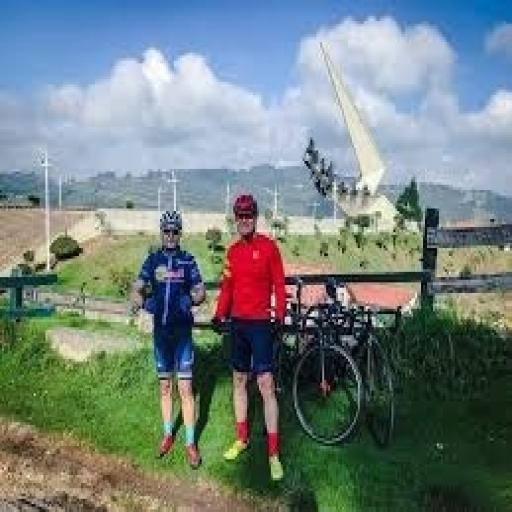cycling: (210, 190, 290, 486), (126, 206, 210, 472)
